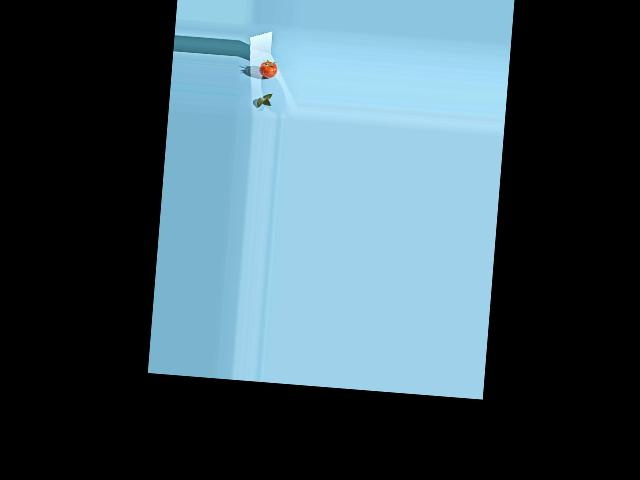tomato: (258, 60, 278, 78)
